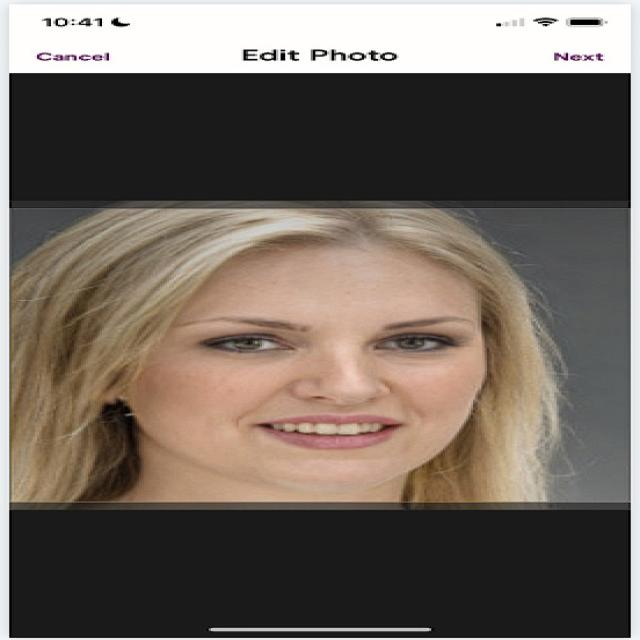image: (0, 195, 640, 508)
text: (224, 38, 414, 74), (15, 44, 128, 72), (525, 44, 640, 71)
